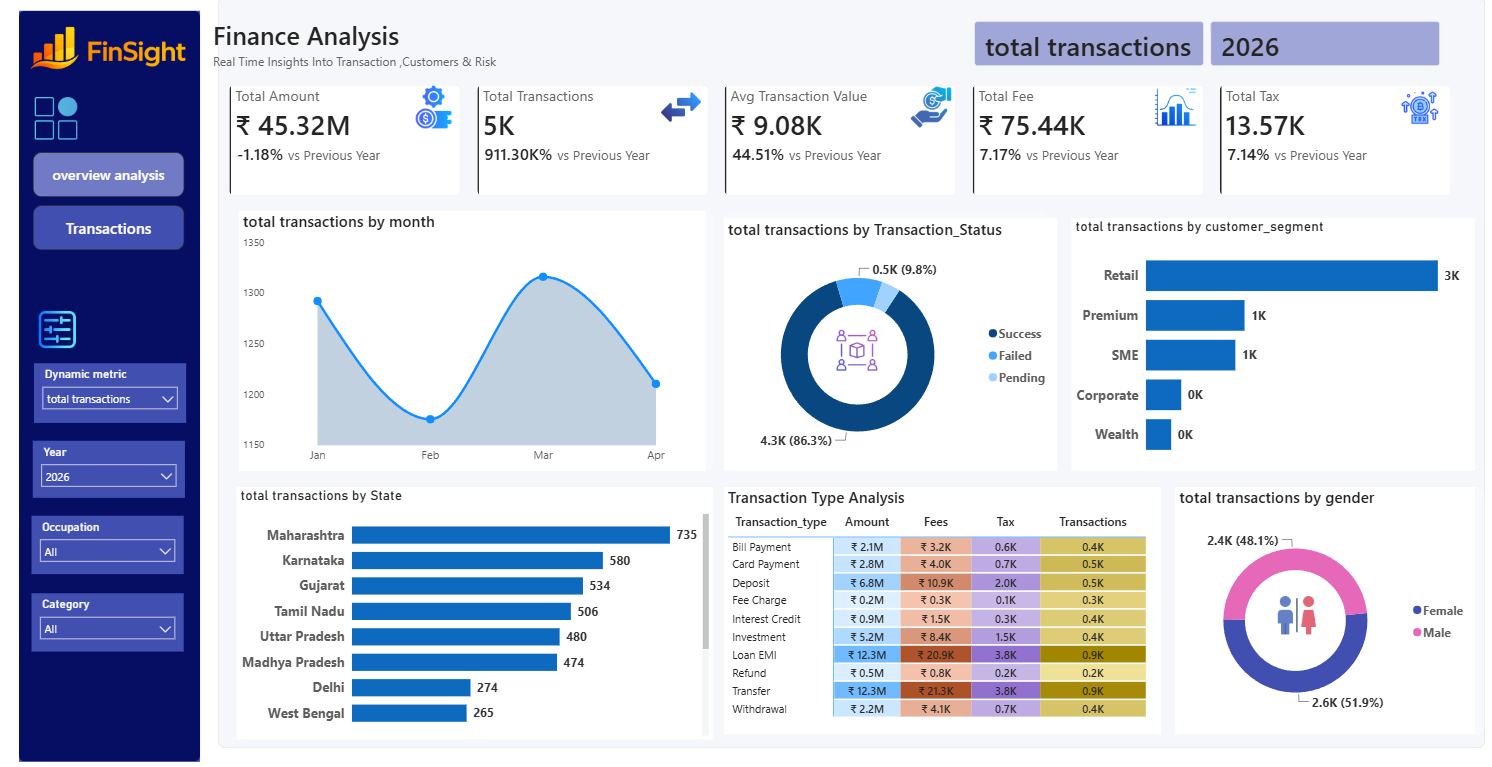

Layout of this report page (visuals, bound fields, positions):
{"tool":"powerbi","page":{"name":"overview analysis","canvas":[1800,950],"ordinal":0},"visuals":[{"type":"shape","box":[11.4,16.4,220.7,915.7],"z":0},{"type":"shape","box":[254.9,0,1545.5,916.2],"z":1000},{"type":"image","box":[18,16.4,209.3,91.6],"z":2000},{"type":"cardVisual","fields":{"Data":["finance_transactions (1).dashboard title"]},"box":[232.2,16.4,385.9,80.1],"z":3000},{"type":"cardVisual","fields":{"Data":["finance_transactions (1).total amount","finance_transactions (1).total transactions","finance_transactions (1).avg transaction value","finance_transactions (1).total fee","finance_transactions (1).total tax"]},"box":[244.2,82,1543.7,185.4],"z":4000},{"type":"slicer","fields":{"Values":["calendar table.year"]},"box":[29,540.5,185.5,69.4],"z":5000},{"type":"image","box":[488.3,108.3,60,51.7],"z":6000},{"type":"image","box":[791.7,108.3,56.7,51.7],"z":7000},{"type":"image","box":[1098.3,108.3,53.3,51.7],"z":8000},{"type":"image","box":[1393.3,108.3,58.3,51.7],"z":9000},{"type":"image","box":[1688.3,108.3,63.3,53.3],"z":10000},{"type":"slicer","fields":{"Values":["Dynamic metric .Dynamic metric "]},"box":[30.7,446.9,185.5,72.6],"z":11000},{"type":"shape","box":[279.9,260.3,579.3,317.3],"z":12000},{"type":"areaChart","fields":{"Y":["finance_transactions (1).total transactions"],"Category":["calendar table.month"]},"box":[279.9,260.3,568.6,317.3],"z":13000},{"type":"cardVisual","fields":{"Data":["finance_transactions (1).selected dynamic measure","finance_transactions (1).selected year"]},"box":[1172.9,25,579.3,66],"z":14000},{"type":"shape","box":[871.7,262,395.7,315.5],"z":15000},{"type":"donutChart","fields":{"Y":["finance_transactions (1).total transactions"],"Category":["finance_transactions (1).transaction_status"]},"box":[871.7,269.2,406.4,308.4],"z":16000},{"type":"shape","box":[1295.9,269.2,456.3,308.4],"z":17000},{"type":"barChart","fields":{"Y":["finance_transactions (1).total transactions"],"Category":["customers (2).customer_segment"]},"box":[1295.9,269.2,492,308.4],"z":18000},{"type":"shape","box":[279.9,609.6,581.1,288.8],"z":19000},{"type":"barChart","fields":{"Y":["finance_transactions (1).total transactions"],"Category":["customers (2).state"]},"box":[278.1,597.1,581.1,308.4],"z":20000},{"type":"shape","box":[871.7,597.1,486.6,301.2],"z":21000},{"type":"pivotTable","title":"Transaction Type Analysis","fields":{"Rows":["finance_transactions (1).transaction_type"],"Values":["finance_transactions (1).total amount","finance_transactions (1).total fee","finance_transactions (1).total tax","finance_transactions (1).total transactions"]},"box":[871.7,597.1,533,301.2],"z":22000},{"type":"shape","box":[1422.5,597.1,377.9,301.2],"z":23000},{"type":"donutChart","fields":{"Y":["finance_transactions (1).total transactions"],"Category":["customers (2).gender"]},"box":[1422.5,597.1,365.4,301.2],"z":24000},{"type":"image","box":[998.2,404.6,71.3,53.5],"z":25000},{"type":"image","box":[1534.8,727.3,71.3,53.5],"z":26000},{"type":"slicer","fields":{"Values":["customers (2).occupation"]},"box":[27.4,632.5,185.5,71],"z":27000},{"type":"slicer","fields":{"Values":["customers (2).customer_segment"]},"box":[27.4,727.7,185.5,71],"z":28000},{"type":"pageNavigator","box":[29,188.8,185.5,121],"z":29000},{"type":"image","box":[29,122.6,56.5,51.6],"z":30000},{"type":"image","box":[30.7,379.2,56.5,51.6],"z":31000}]}

Visuals, with their boxes in screenshot pixels (x1, y1, x2, y2), scaled from the page's 1800x950 canvas onto the 1492x767 screenshot:
shape: bbox(9, 13, 192, 753)
shape: bbox(211, 0, 1491, 740)
image: bbox(15, 13, 188, 87)
cardVisual - finance_transactions (1).dashboard title: bbox(192, 13, 512, 78)
cardVisual - finance_transactions (1).total amount x finance_transactions (1).total transactions: bbox(202, 66, 1482, 216)
slicer - calendar table.year: bbox(24, 436, 178, 492)
image: bbox(405, 87, 454, 129)
image: bbox(656, 87, 703, 129)
image: bbox(910, 87, 955, 129)
image: bbox(1155, 87, 1203, 129)
image: bbox(1399, 87, 1452, 130)
slicer - Dynamic metric .Dynamic metric : bbox(25, 361, 179, 419)
shape: bbox(232, 210, 712, 466)
areaChart - finance_transactions (1).total transactions x calendar table.month: bbox(232, 210, 703, 466)
cardVisual - finance_transactions (1).selected dynamic measure x finance_transactions (1).selected year: bbox(972, 20, 1452, 73)
shape: bbox(723, 212, 1051, 466)
donutChart - finance_transactions (1).total transactions x finance_transactions (1).transaction_status: bbox(723, 217, 1059, 466)
shape: bbox(1074, 217, 1452, 466)
barChart - finance_transactions (1).total transactions x customers (2).customer_segment: bbox(1074, 217, 1482, 466)
shape: bbox(232, 492, 714, 725)
barChart - finance_transactions (1).total transactions x customers (2).state: bbox(231, 482, 712, 731)
shape: bbox(723, 482, 1126, 725)
"Transaction Type Analysis" pivotTable: bbox(723, 482, 1164, 725)
shape: bbox(1179, 482, 1491, 725)
donutChart - finance_transactions (1).total transactions x customers (2).gender: bbox(1179, 482, 1482, 725)
image: bbox(827, 327, 886, 370)
image: bbox(1272, 587, 1331, 630)
slicer - customers (2).occupation: bbox(23, 511, 176, 568)
slicer - customers (2).customer_segment: bbox(23, 588, 176, 645)
pageNavigator: bbox(24, 152, 178, 250)
image: bbox(24, 99, 71, 141)
image: bbox(25, 306, 72, 348)
